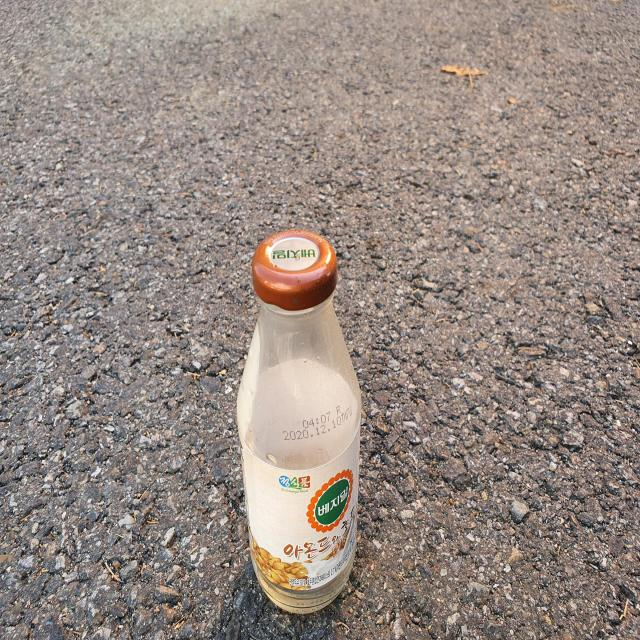glass: (237, 229, 362, 614)
